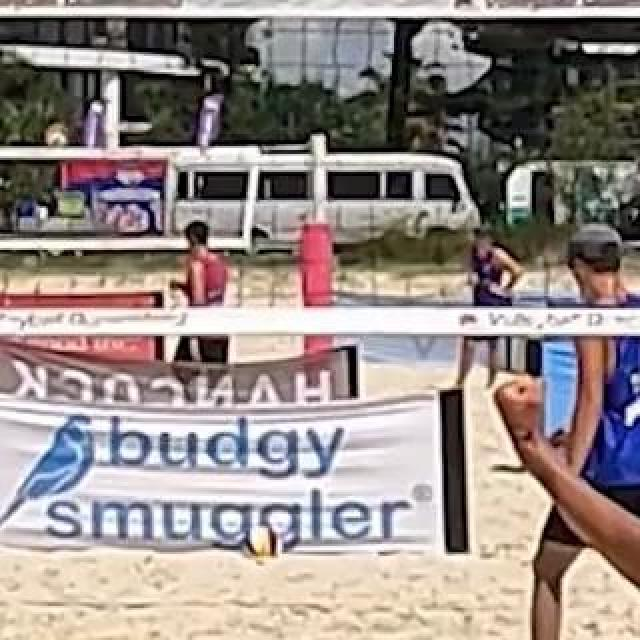volleyball: (244, 527, 278, 563)
